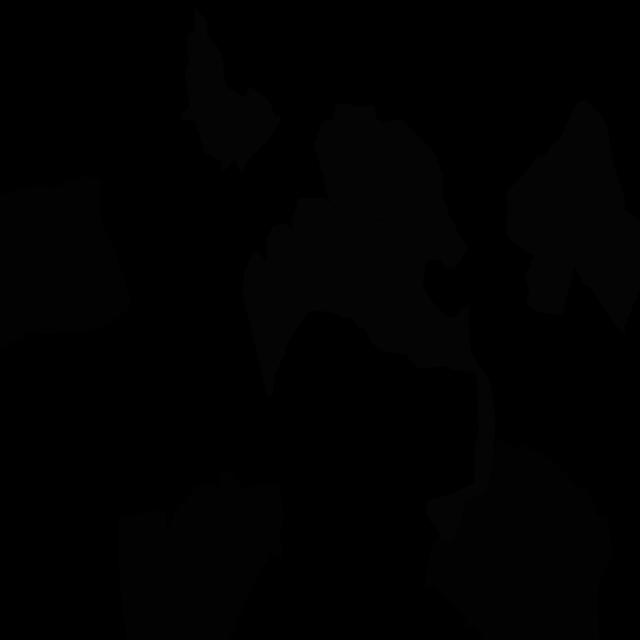cardboard: (425, 437, 612, 640), (118, 471, 285, 640), (0, 176, 132, 351)
soft_plastic: (242, 198, 496, 541), (505, 99, 640, 335), (314, 103, 466, 288), (181, 7, 281, 173)
